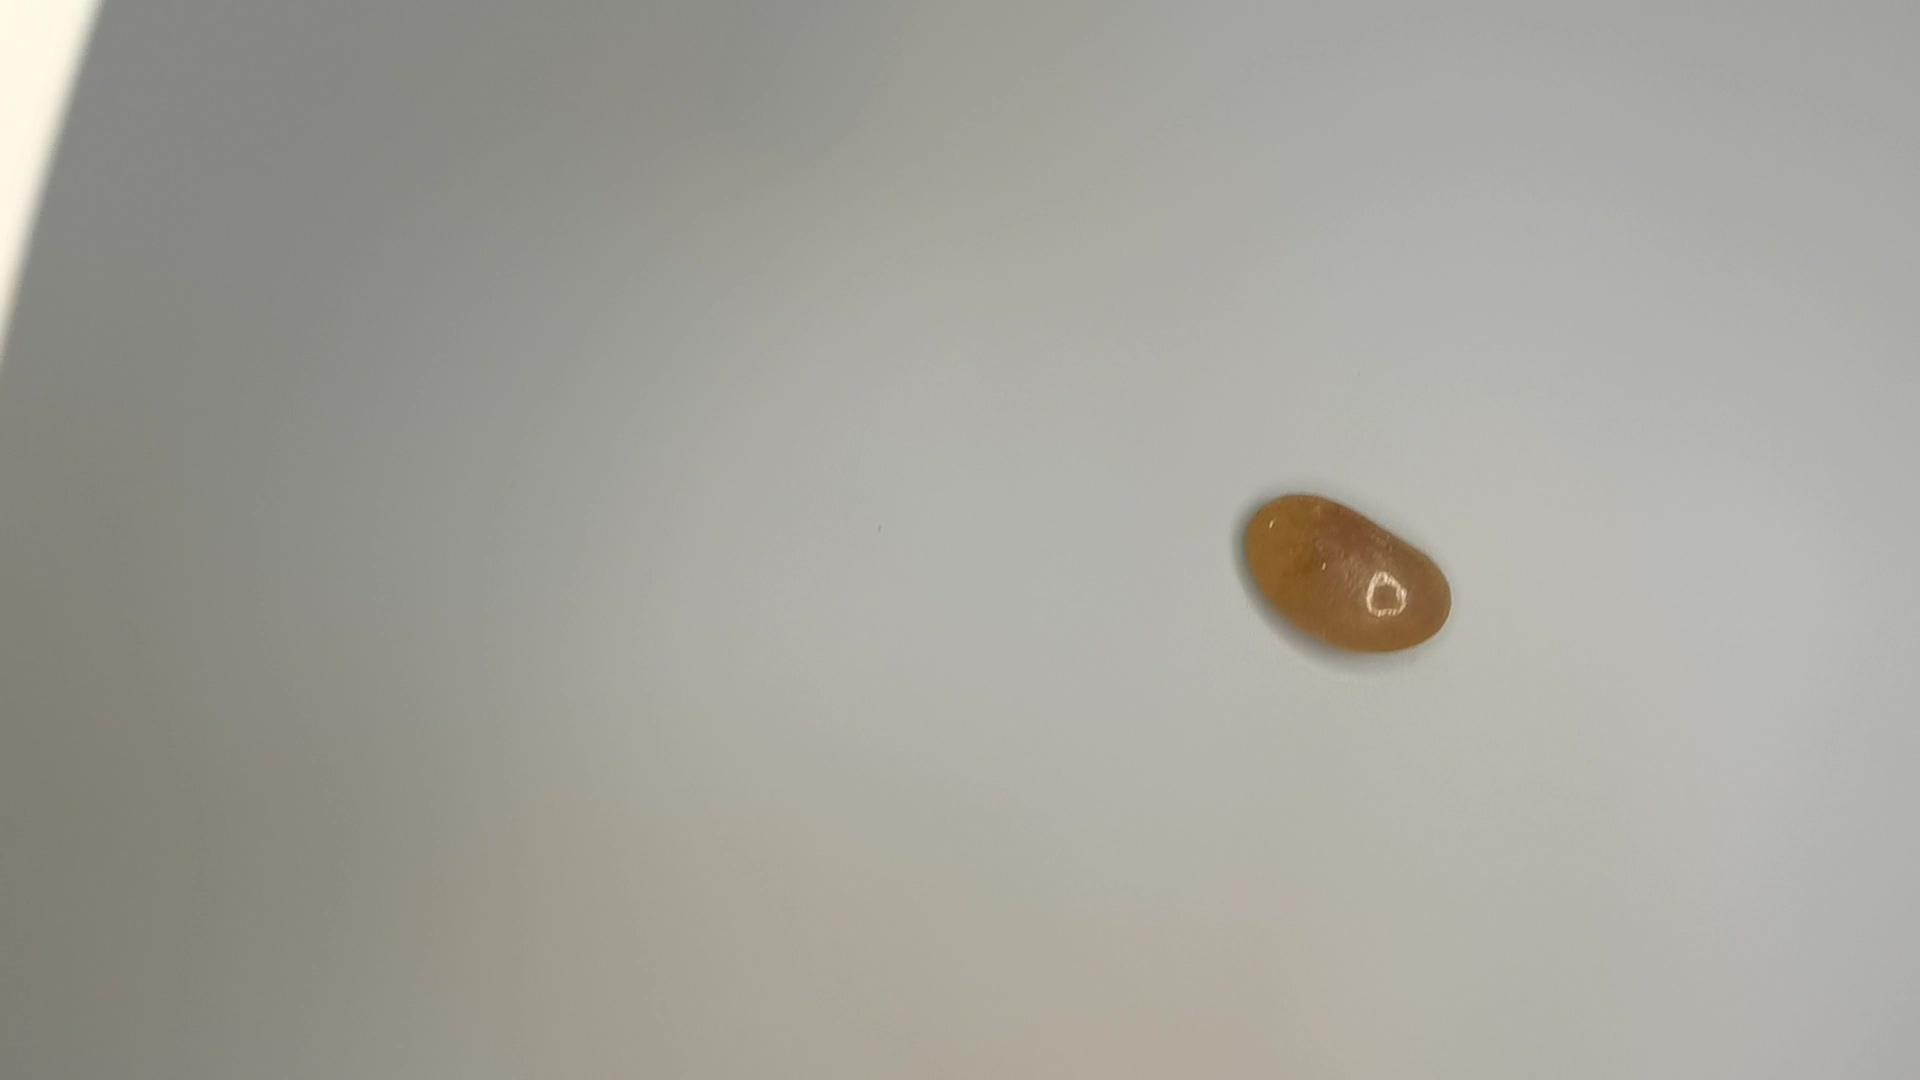ceramic: (1233, 489, 1460, 661)
